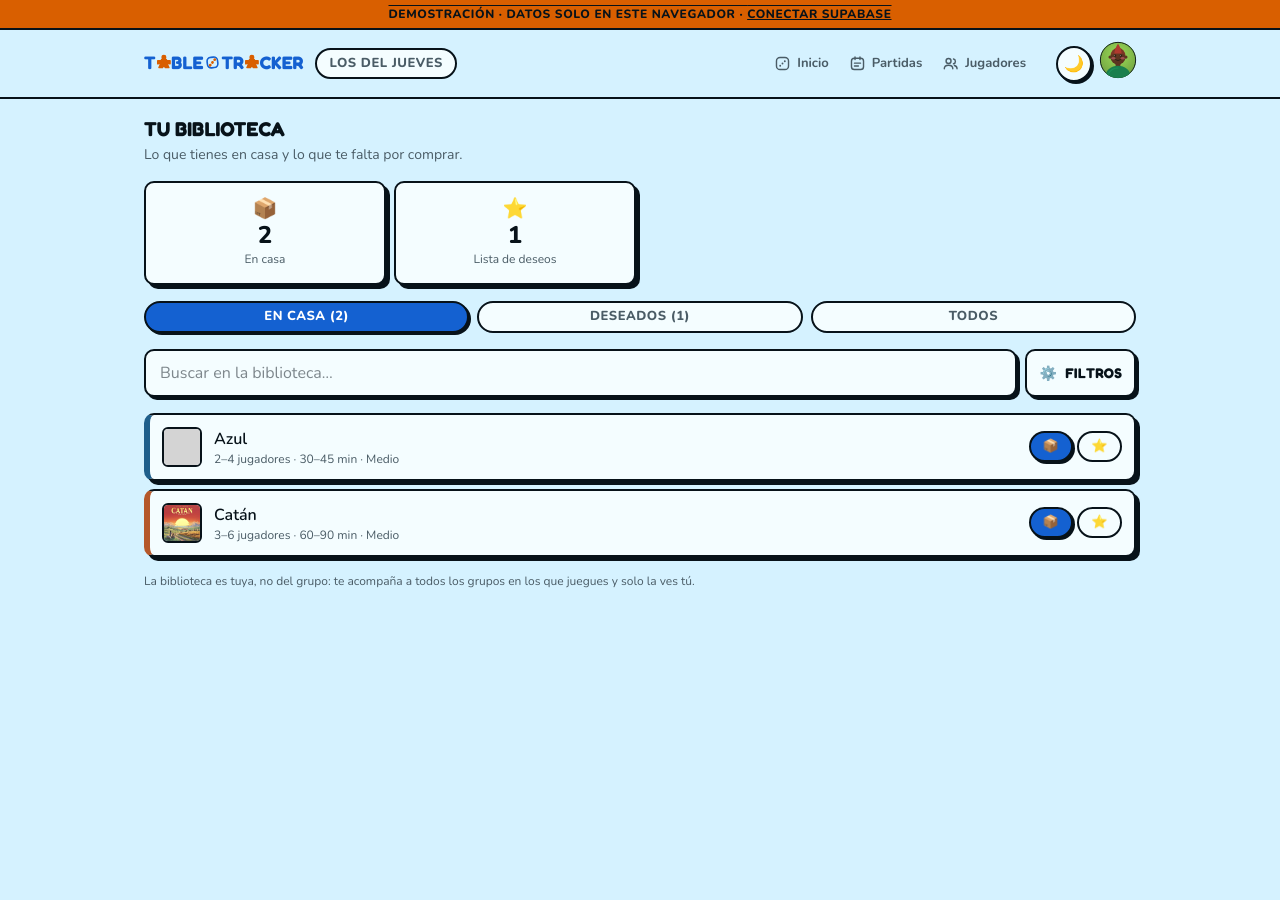
Test: App › tu ficha enseña tu biblioteca, y la de otro jugador no
Click the link named "Tu ficha y tu avatar". click: (1118, 64)
box: [1100,42,1136,85]
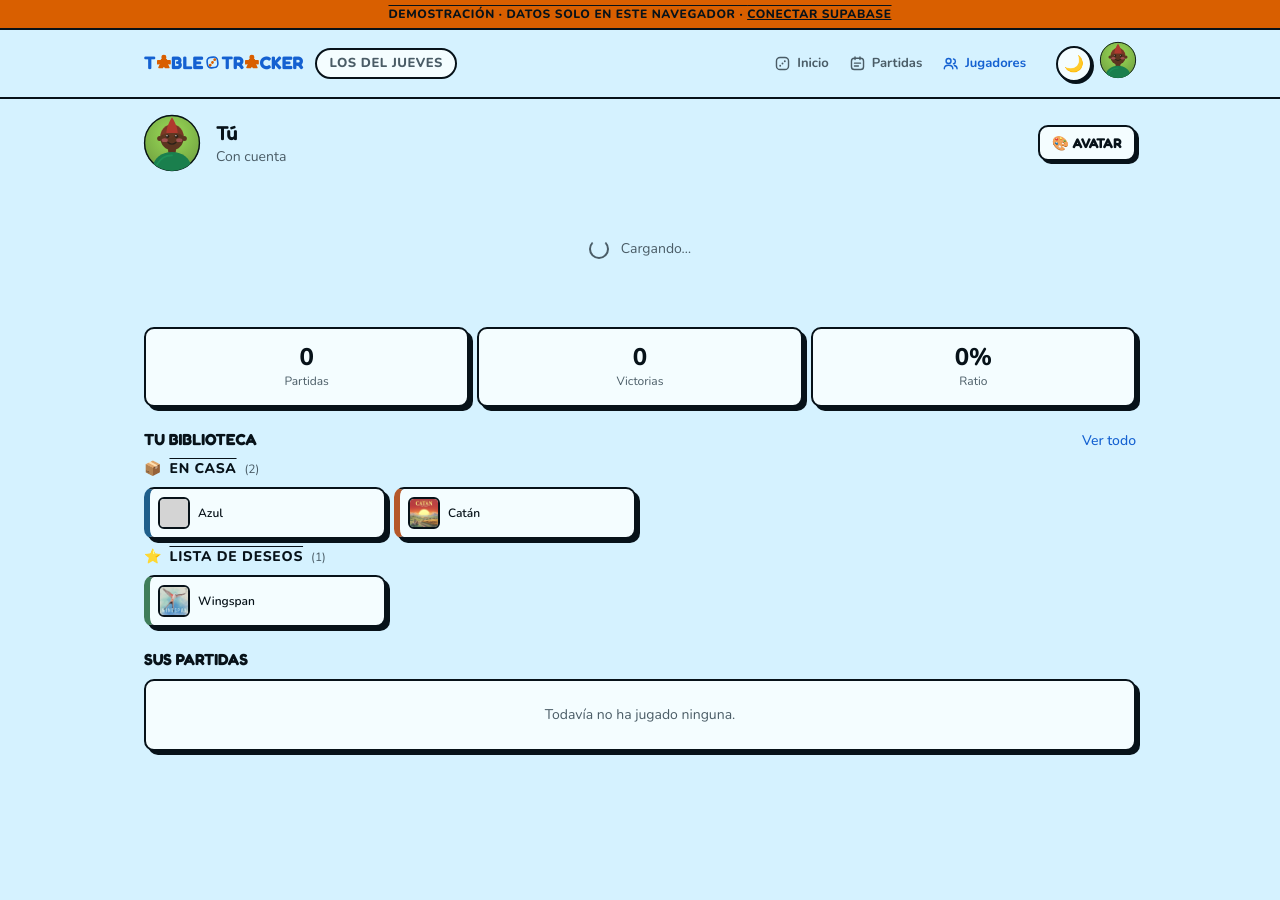
Expected: the text "Catán" is shown, [448,505,480,521]
Expected: the heading "Sus partidas" is shown, [144,649,248,669]
Expected: the text "Wingspan" is shown, [198,593,255,609]
// Es privada: en el perfil de otro no aparece.
Click the link "Jugadores". click: (984, 63)
box: [942,54,1026,72]
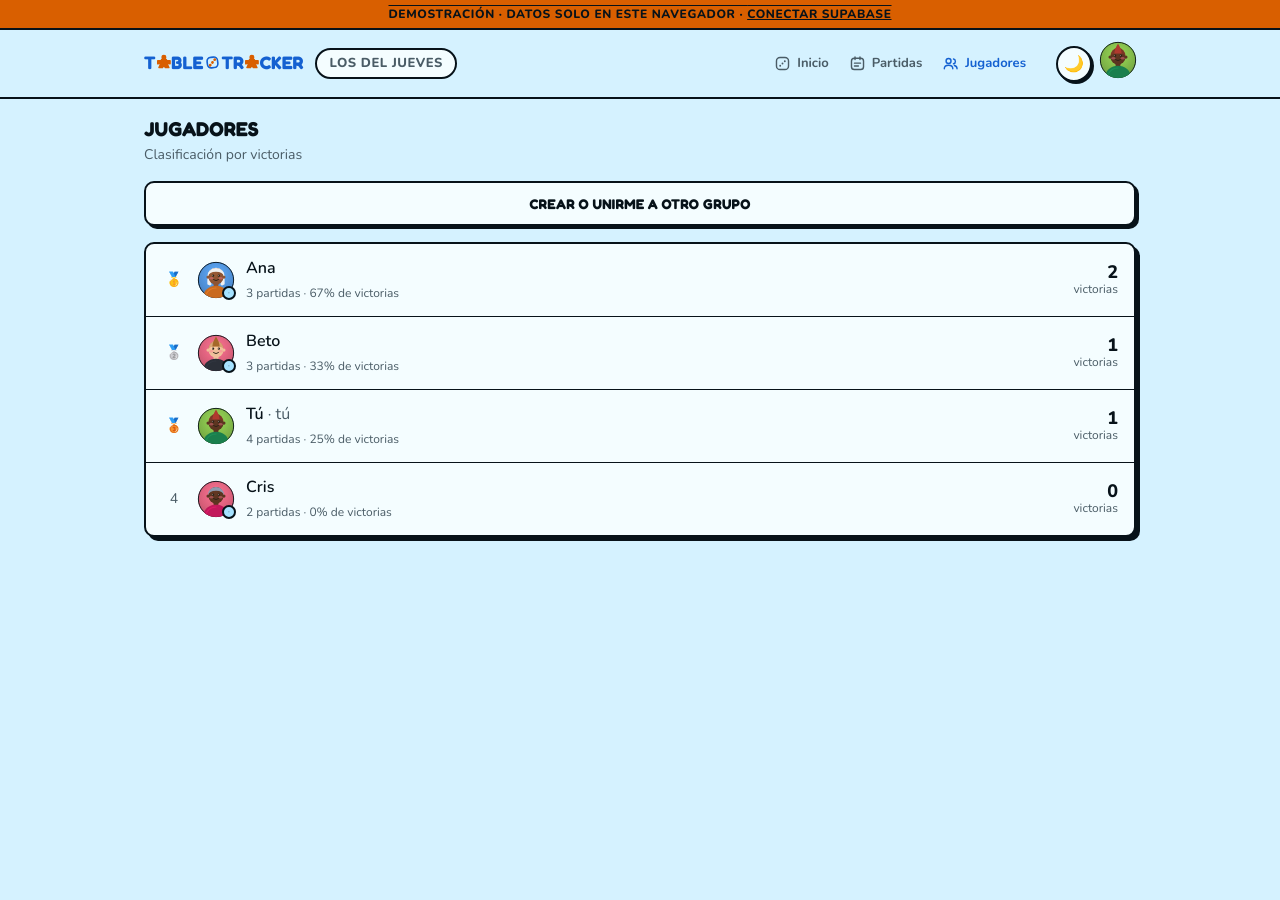
Click the text "Ana". click: (261, 268)
box: [246,257,276,279]
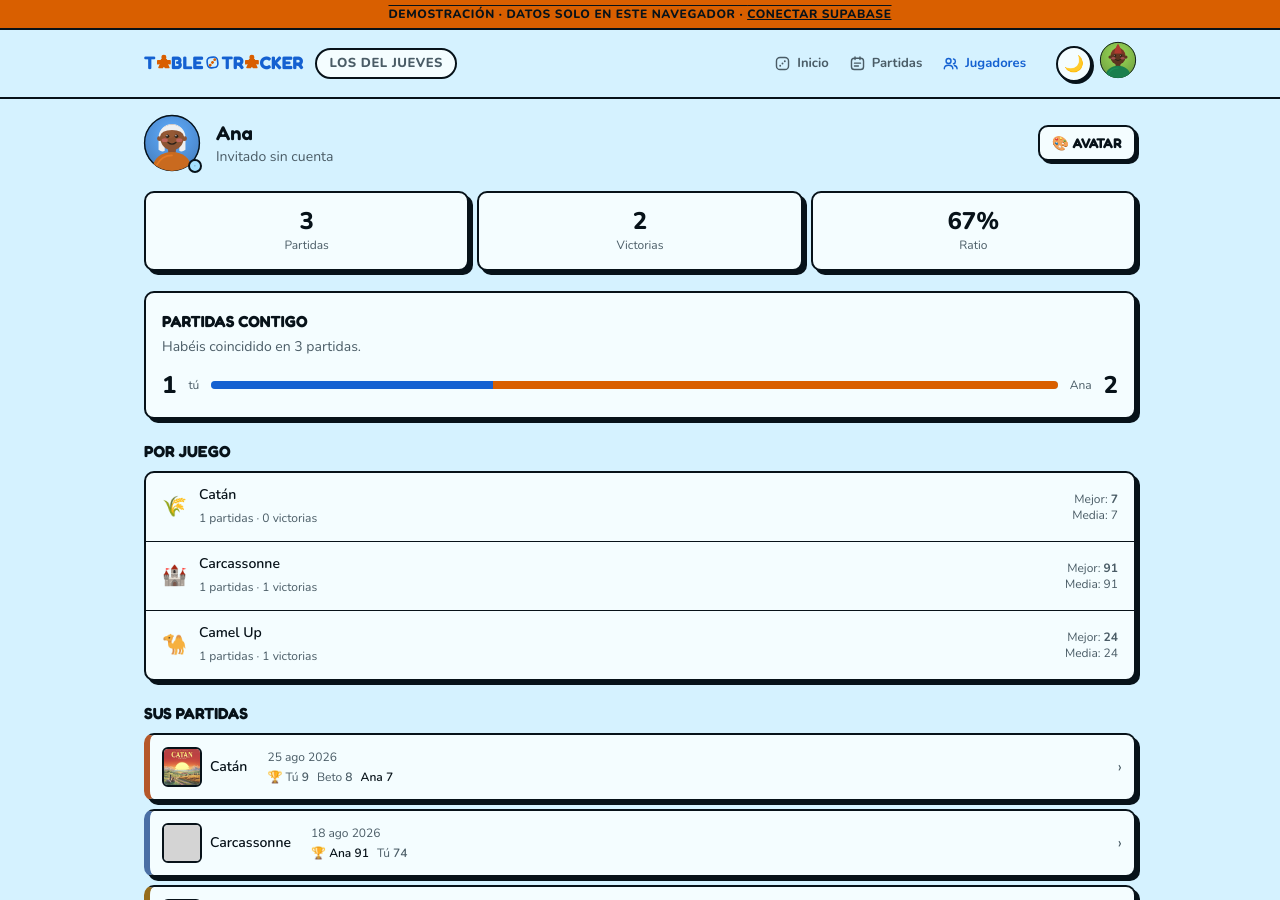
Expected: the heading "Tu biblioteca" is not shown
Expected: the heading "Sus partidas" is shown, [144,703,248,723]
